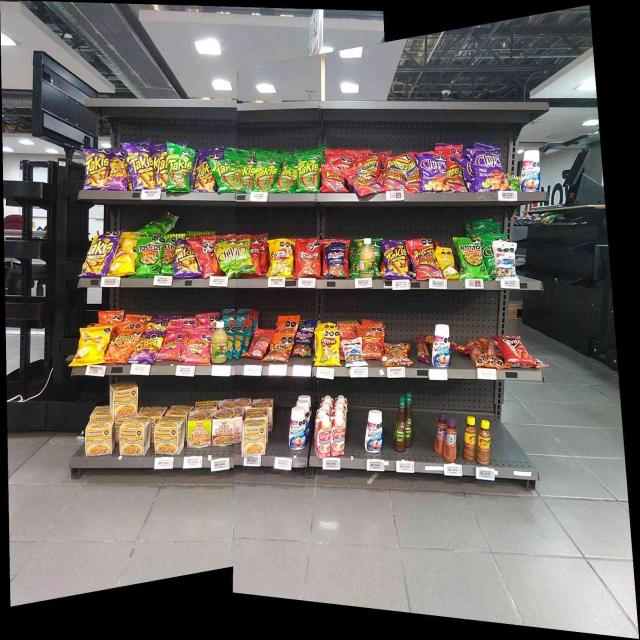bitzEnchilado90: (364, 325, 382, 359)
bitzEnchilado95: (474, 341, 501, 368)
bitzHabanero: (416, 336, 428, 362)
bokadosCacahuates: (327, 243, 345, 278), (294, 325, 312, 357)
botaneraChilito: (478, 420, 491, 464), (464, 416, 476, 460)
cheetosFlaminHot: (136, 334, 159, 361)
cheetosOriginal: (110, 332, 129, 362)
chipsFuego: (473, 150, 506, 190), (420, 154, 447, 192)
chipsPapatinas: (219, 242, 250, 274)
churrumais: (185, 330, 209, 364), (163, 331, 182, 360)
delPrimoSalsa: (359, 238, 375, 276), (212, 321, 226, 363)
doritosNacho: (198, 237, 218, 274), (503, 336, 529, 364)
fritosLimon: (317, 331, 338, 365), (273, 239, 292, 276)
leoCacahuates: (496, 242, 515, 278), (344, 342, 362, 365)
leoMix: (270, 334, 291, 362), (385, 344, 409, 364)
maruchanPollo: (120, 419, 149, 454), (156, 419, 183, 452), (86, 421, 113, 454), (110, 383, 137, 414), (242, 422, 265, 454)
nestleCarnation: (315, 418, 330, 457), (331, 418, 345, 456)
nestleLechera: (364, 410, 383, 453), (432, 324, 450, 366), (288, 406, 306, 448), (522, 150, 540, 191)
nissinCamaron: (188, 412, 211, 447)
nissinRes: (212, 412, 238, 447)
productoAtras: (249, 329, 267, 356)
rancheritos: (296, 241, 320, 277)
runners: (412, 240, 437, 277), (448, 152, 466, 192), (386, 157, 406, 190), (349, 170, 376, 192), (322, 165, 343, 193)
sabritasOriginal: (78, 329, 104, 362), (115, 240, 136, 275)
salsaBufalo: (394, 396, 405, 452), (407, 392, 413, 448)
semillasCalabaza: (441, 248, 456, 277)
tajinDulce: (445, 419, 457, 462), (434, 412, 444, 455)
takisFuego: (82, 233, 114, 275), (127, 144, 154, 188), (85, 149, 107, 189), (384, 241, 408, 277), (198, 148, 215, 192), (175, 240, 195, 276), (156, 146, 168, 189)
takisOriginal: (168, 144, 190, 191), (298, 155, 318, 192), (256, 154, 276, 190), (217, 159, 236, 191), (279, 161, 296, 192)
tostitos: (459, 238, 483, 277), (138, 237, 161, 275), (163, 235, 173, 275)
